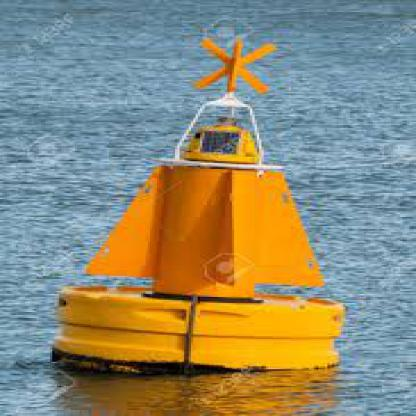buoy: (32, 33, 361, 368)
